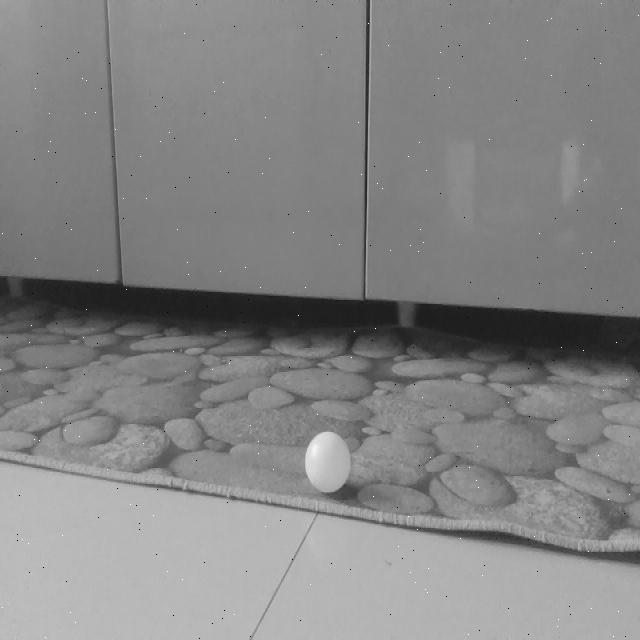ping-pong-ball: (306, 432, 352, 492)
